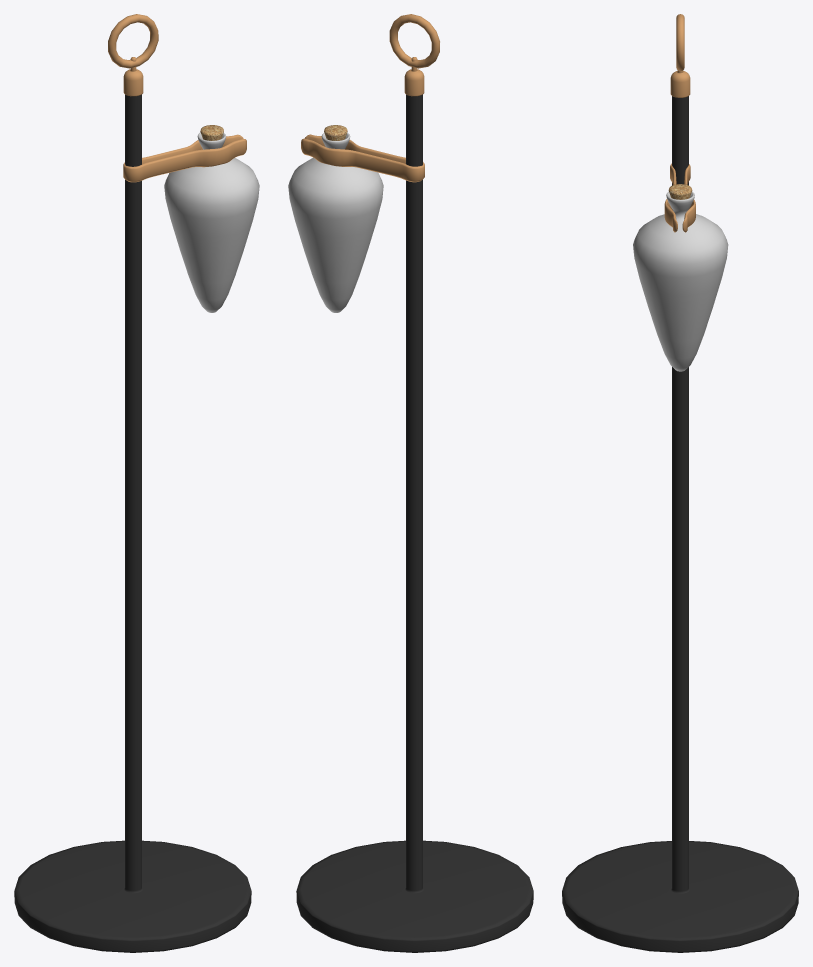
File: VialStand.fbx
3 renders of one model, left to right at view 1: azimuth 30°, elevation 25°; view 2: azimuth 150°, elevation 25°; view 3: azimuth 270°, elevation 25°, orthographic.
Visible parts, largest first — view 1: VileStand, DripVial, Catch; view 2: VileStand, DripVial, Catch; view 3: VileStand, DripVial, Catch.
Part boxes in pixels (x1=…): VileStand: x1=14, y1=14, x2=251, y2=952; DripVial: x1=164, y1=132, x2=259, y2=312; Catch: x1=123, y1=134, x2=246, y2=182; VileStand: x1=296, y1=14, x2=533, y2=952; DripVial: x1=288, y1=132, x2=383, y2=312; Catch: x1=301, y1=134, x2=424, y2=182; VileStand: x1=562, y1=14, x2=798, y2=952; DripVial: x1=633, y1=191, x2=728, y2=371; Catch: x1=664, y1=163, x2=695, y2=232.
Size of the model in its own units: 215 by 818 by 198.
